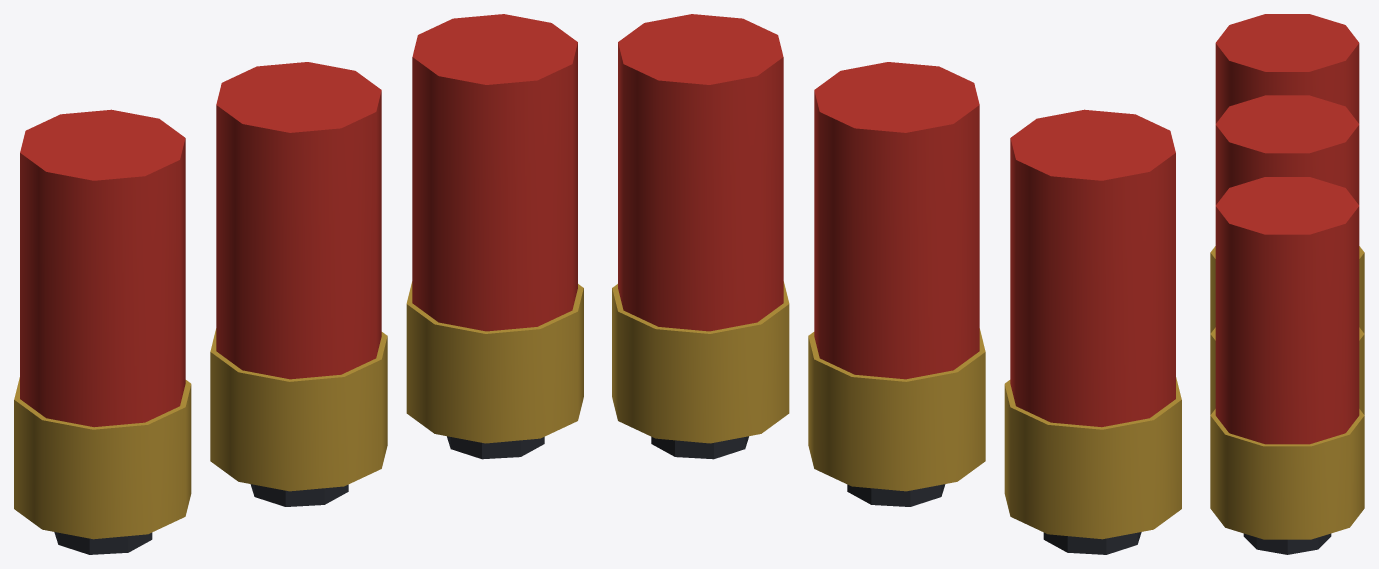
File: item_shell.glb
The picture shows the model from 3 angles, left to right: view 1: azimuth 30°, elevation 25°; view 2: azimuth 150°, elevation 25°; view 3: azimuth 270°, elevation 25°; orthographic projection. The views are drawn at different scales.
Parts seen in each view (by area): view 1: item_shell, item_shell_detail; view 2: item_shell, item_shell_detail; view 3: item_shell, item_shell_detail.
Boxes of the visible parts, x1=… form: item_shell: x1=14, y1=14, x2=583, y2=539; item_shell_detail: x1=54, y1=436, x2=544, y2=554; item_shell: x1=612, y1=14, x2=1181, y2=539; item_shell_detail: x1=651, y1=436, x2=1141, y2=554; item_shell: x1=1210, y1=14, x2=1364, y2=539; item_shell_detail: x1=1243, y1=533, x2=1331, y2=554.
Size of the model in its own units: 0.2071 by 0.142 by 0.06.
